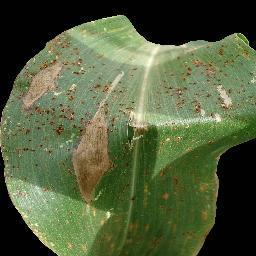Corn_Common_Rust: (0, 31, 74, 187), (174, 30, 256, 148), (74, 57, 132, 213), (170, 148, 223, 256), (132, 164, 169, 256), (16, 205, 63, 256), (101, 212, 132, 256), (153, 78, 175, 119), (132, 103, 148, 144), (0, 187, 31, 204), (65, 240, 95, 255), (75, 44, 85, 56)
